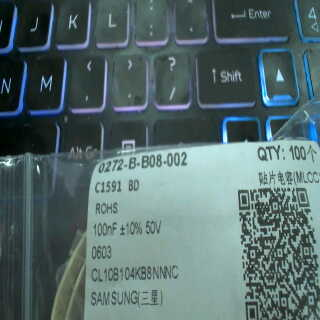100nF: (92, 218, 121, 243)
